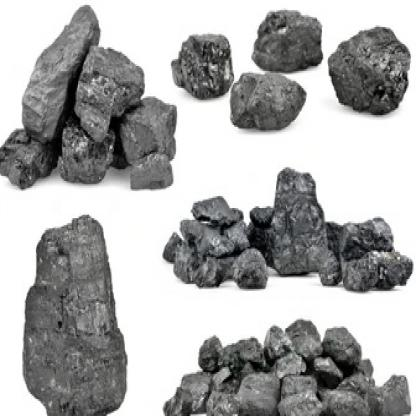Sedimentary_coal: (16, 221, 129, 414), (1, 5, 110, 140), (70, 34, 154, 137), (327, 24, 411, 116), (272, 168, 332, 278), (232, 69, 313, 139), (166, 26, 240, 102), (252, 5, 326, 80), (334, 198, 401, 250), (323, 321, 362, 369), (193, 190, 243, 224), (280, 374, 317, 414), (262, 318, 294, 362), (232, 247, 268, 286)
